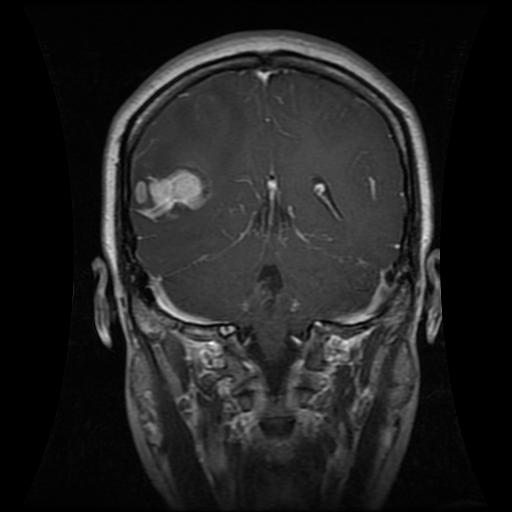Gliomia_tumour: (129, 161, 213, 222)
